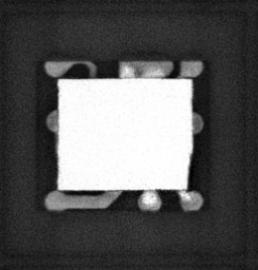DIE_BROKEN: (184, 152, 195, 192)
